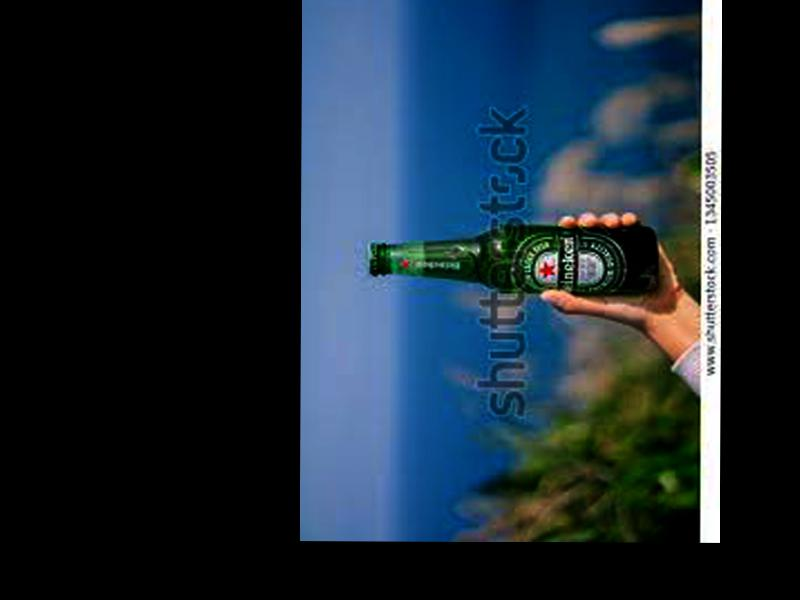Beer: (368, 225, 658, 295)
